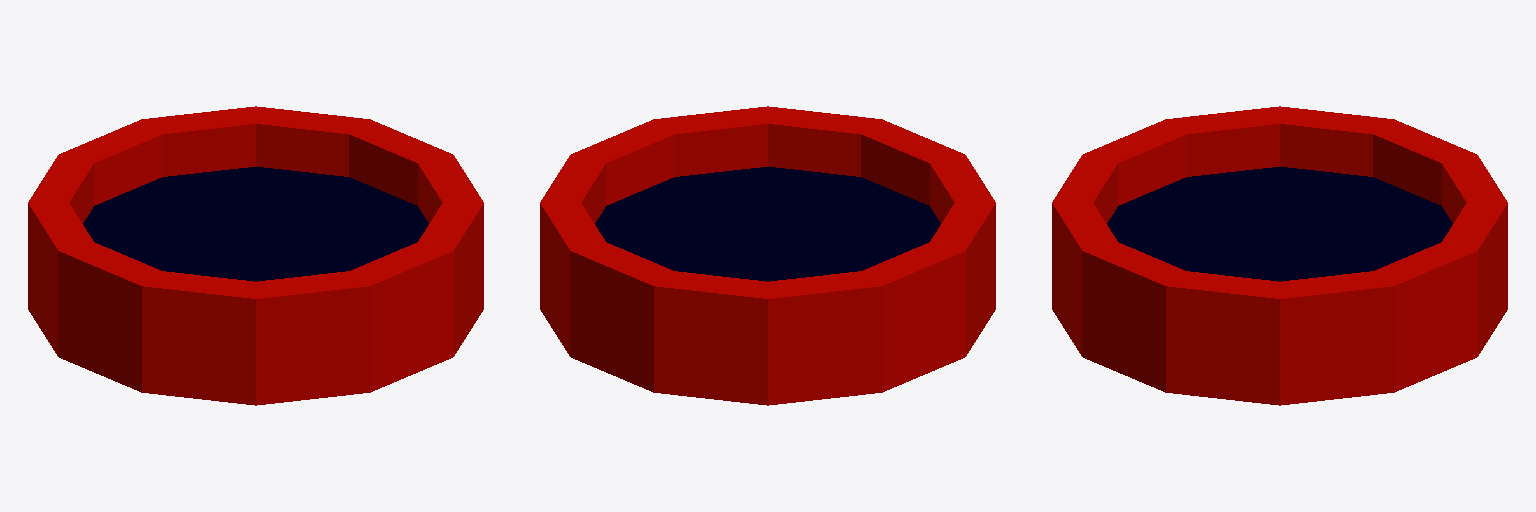
File: water-well.obj
3 views of the same model, side by side, from view 1: azimuth 30°, elevation 25°; view 2: azimuth 150°, elevation 25°; view 3: azimuth 270°, elevation 25° (orthographic).
Parts seen in each view (by area): view 1: well_Cylinder.001, water_Cylinder.002; view 2: well_Cylinder.001, water_Cylinder.002; view 3: well_Cylinder.001, water_Cylinder.002.
Boxes of the visible parts, x1,y1,x2,y2 form: well_Cylinder.001: [28, 106, 483, 405]; water_Cylinder.002: [83, 167, 428, 281]; well_Cylinder.001: [540, 106, 995, 405]; water_Cylinder.002: [595, 167, 940, 281]; well_Cylinder.001: [1052, 106, 1507, 405]; water_Cylinder.002: [1107, 167, 1452, 281].
Bounding box in the file's own units: 7.48 × 1.93 × 7.48.